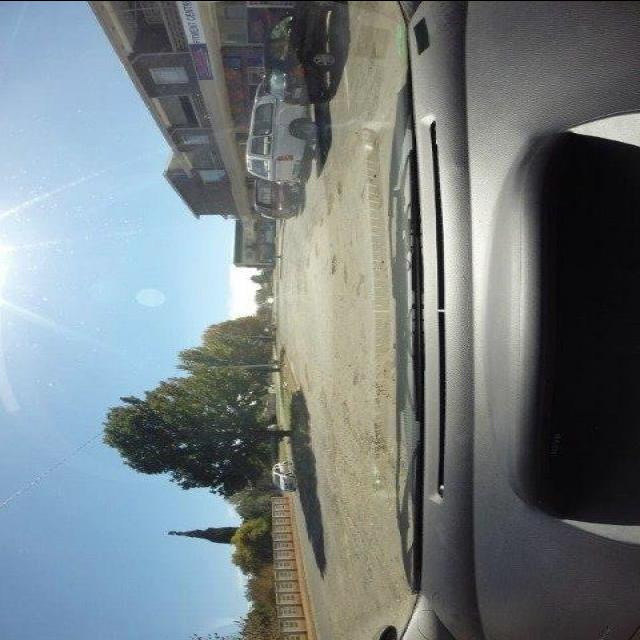jalan retak: (332, 360, 392, 548)
lubang: (346, 271, 370, 295), (303, 357, 317, 392), (322, 190, 334, 219), (327, 254, 337, 277), (332, 181, 344, 199)
